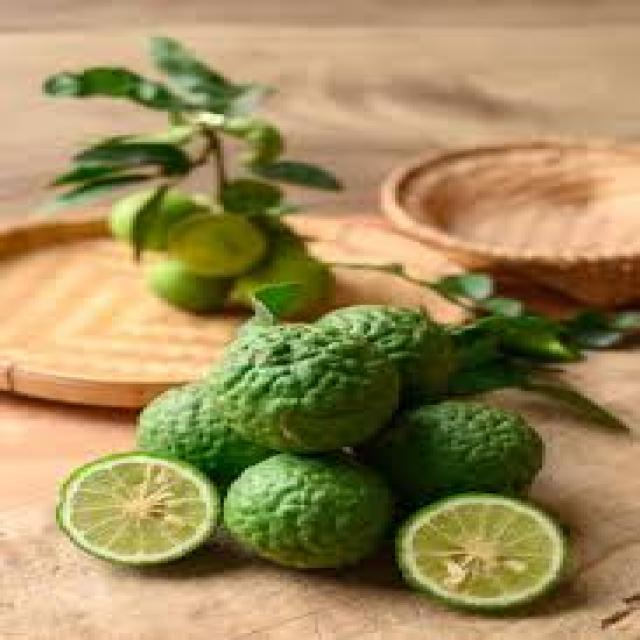Chuc: (210, 319, 402, 451), (392, 491, 574, 610), (220, 449, 392, 570), (52, 449, 220, 566), (385, 398, 542, 498)
